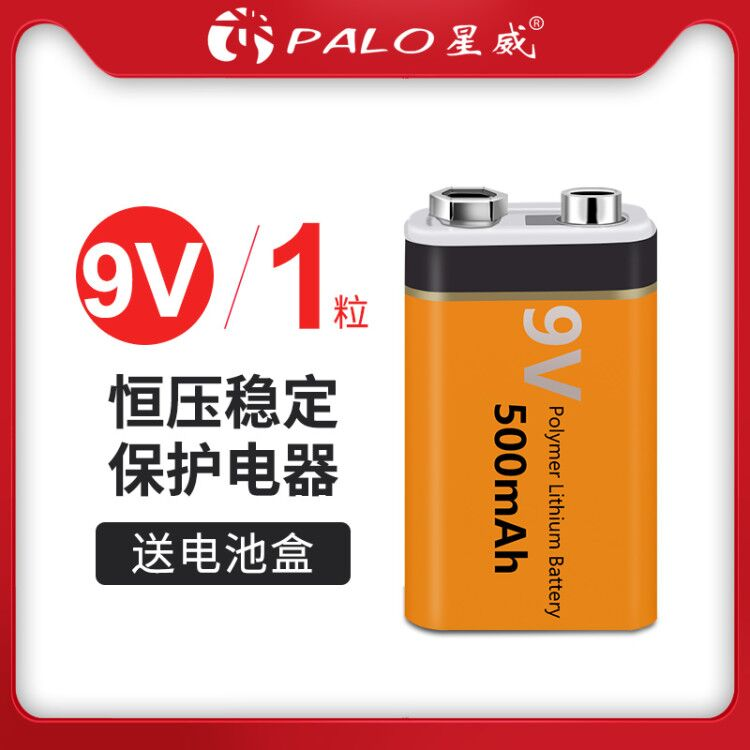Battery: (395, 178, 668, 640)
